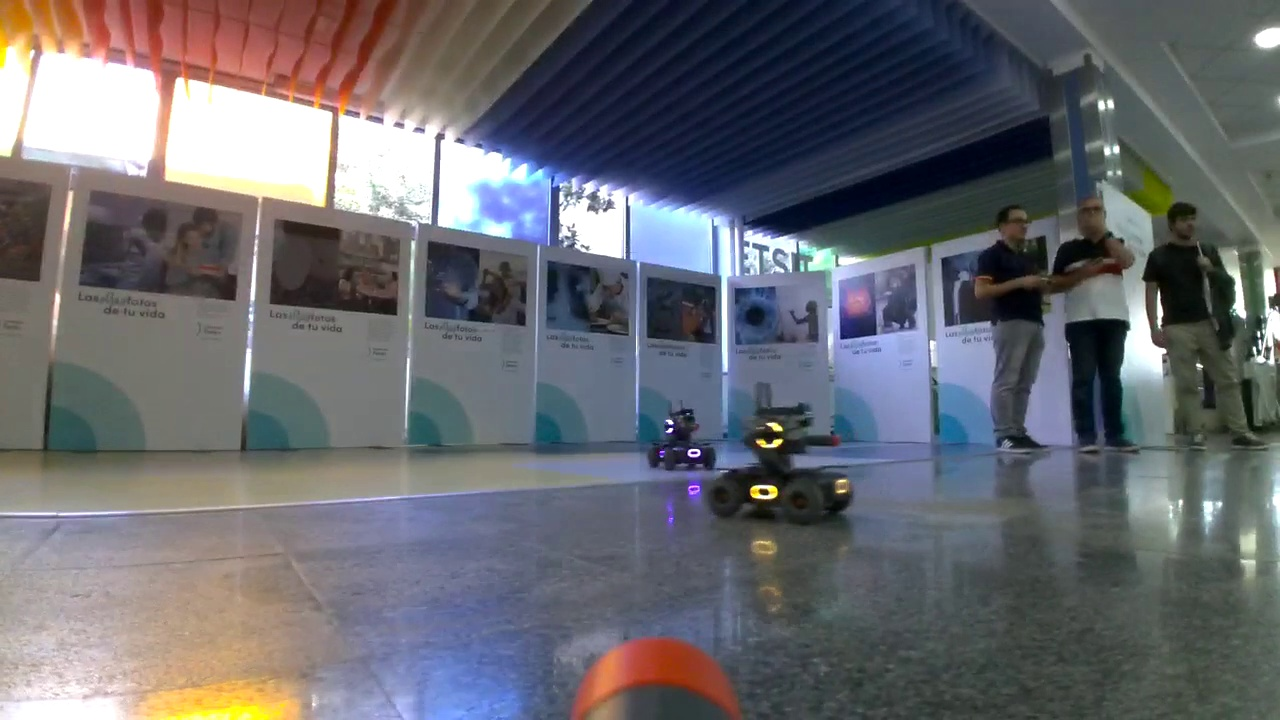robot: (709, 407, 857, 524), (649, 397, 719, 470)
